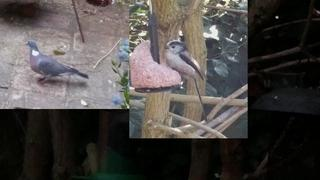long tailed tit: (164, 40, 208, 123)
wood pigeon: (24, 40, 89, 84)
